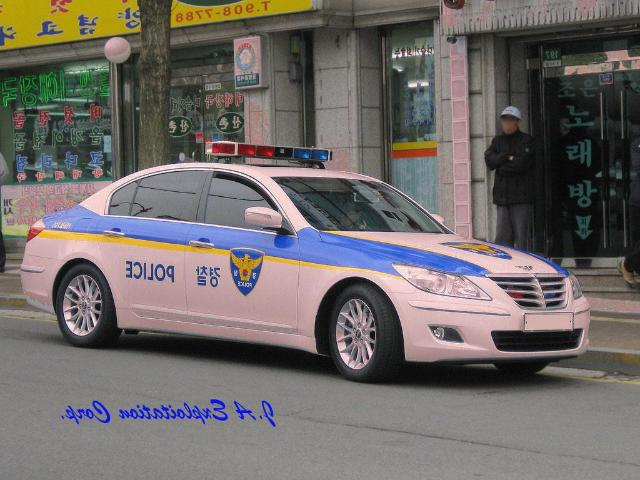police: (19, 140, 592, 374)
